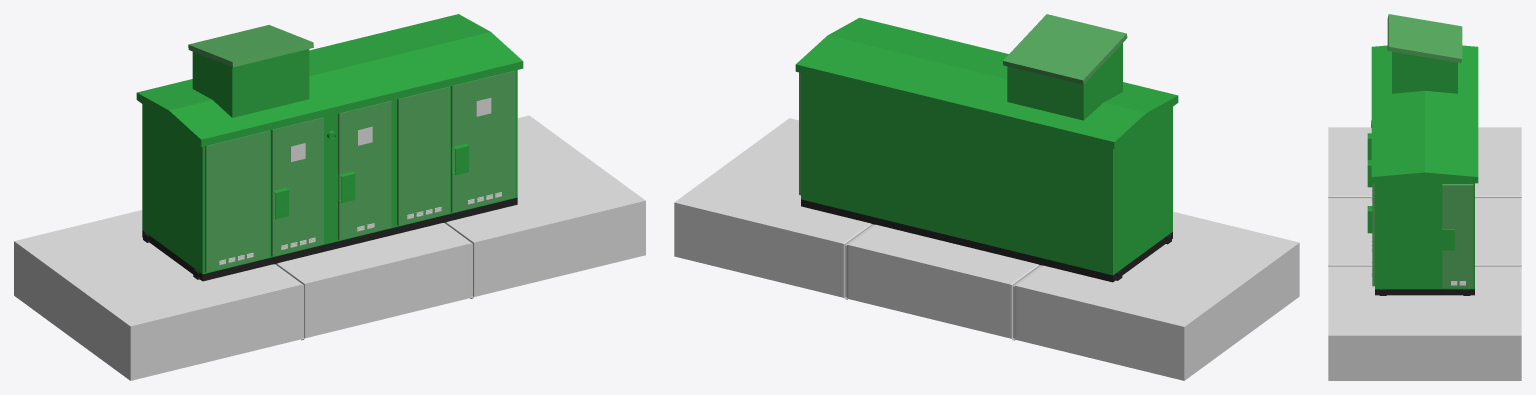
Rendered from DangerBox.fbx.
The picture shows the model from 3 angles, left to right: view 1: azimuth 30°, elevation 25°; view 2: azimuth 150°, elevation 25°; view 3: azimuth 270°, elevation 25°; orthographic projection. The views are drawn at different scales.
Parts seen in each view (by area): view 1: Cube, Cube.004, Cube.001, Cube.006, Cube.012, Cube.010, Cube.014, Cube.008, Cube.002, Cube.005, Cube.003; view 2: Cube, Cube.001, Cube.004, Cube.005, Cube.002, Cube.003; view 3: Cube, Cube.004, Cube.001, Cube.021, Cube.005, Cube.002, Cube.003, Cube.012, Cube.022.
Part boxes in pixels (x1,y1,x2,y2): Cube: (14, 115, 645, 380); Cube.004: (136, 14, 523, 146); Cube.001: (142, 70, 517, 274); Cube.006: (205, 130, 269, 272); Cube.012: (451, 70, 515, 212); Cube.010: (397, 86, 449, 225); Cube.014: (338, 101, 391, 240); Cube.008: (271, 117, 323, 256); Cube.002: (192, 49, 309, 117); Cube.005: (188, 25, 313, 67); Cube.003: (142, 197, 517, 281); Cube: (674, 118, 1299, 380); Cube.001: (801, 73, 1172, 275); Cube.004: (795, 17, 1178, 149); Cube.005: (1003, 14, 1127, 84); Cube.002: (1007, 43, 1122, 120); Cube.003: (801, 199, 1172, 282); Cube: (1328, 127, 1521, 380); Cube.004: (1371, 45, 1478, 183); Cube.001: (1375, 183, 1474, 289); Cube.021: (1442, 184, 1473, 288); Cube.005: (1387, 14, 1462, 62); Cube.002: (1392, 51, 1457, 93); Cube.003: (1375, 289, 1474, 295); Cube.012: (1372, 183, 1374, 286); Cube.022: (1442, 228, 1454, 250).
Size of what is drawn, in the model's own units: 511 by 247 by 200.
